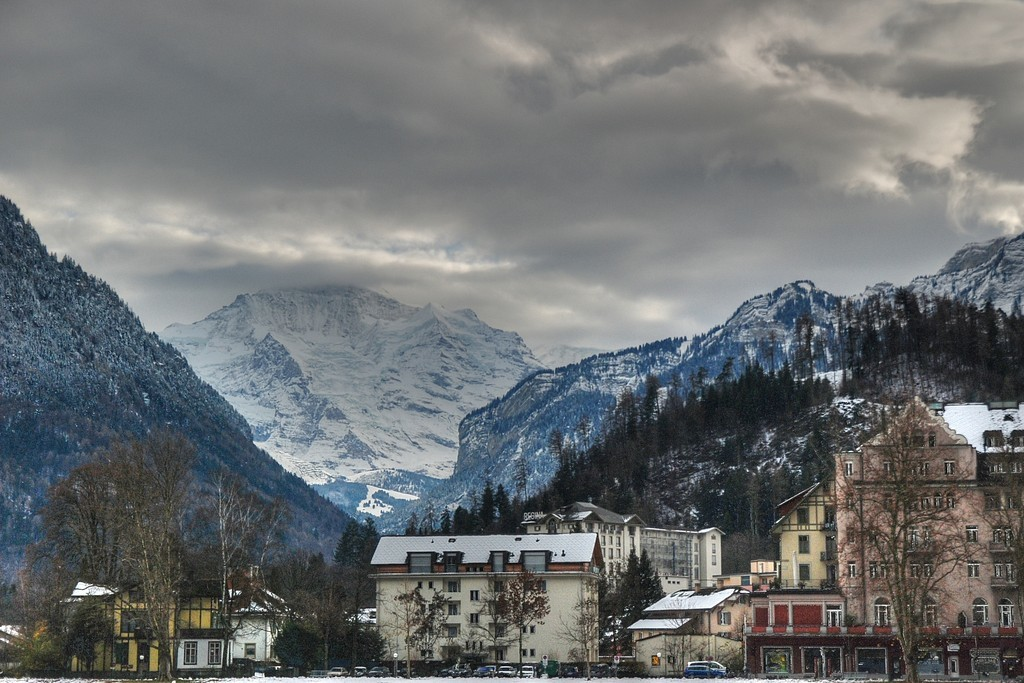Tree: (0, 287, 1022, 676), (37, 419, 222, 620)
